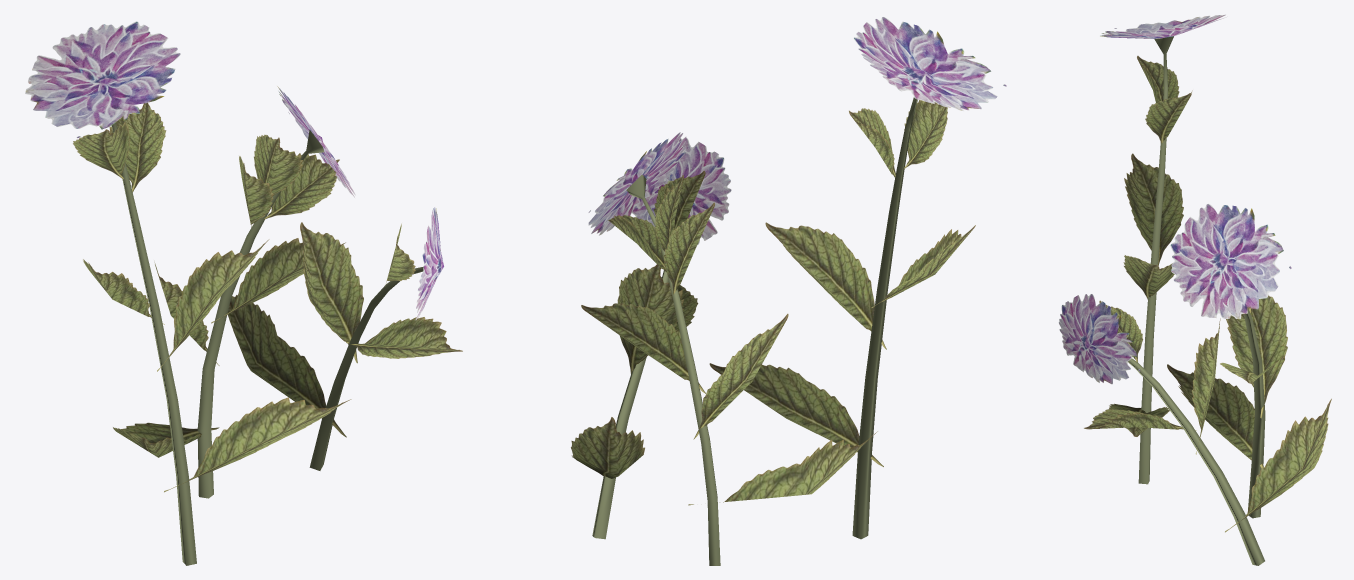
Rendered from sala2-pieza2.glb.
3 views of the same model, side by side, from view 1: azimuth 30°, elevation 25°; view 2: azimuth 150°, elevation 25°; view 3: azimuth 270°, elevation 25° (orthographic). The views are drawn at different scales.
Visible parts, largest first — view 1: Tree_1, Tree_0, Tree_2; view 2: Tree_1, Tree_0, Tree_2; view 3: Tree_1, Tree_0, Tree_2.
Part boxes in pixels (x1,y1,x2,y2): Tree_1: (73,102,462,492); Tree_0: (25,21,443,320); Tree_2: (111,122,440,565); Tree_1: (571,100,975,505); Tree_0: (588,17,1006,244); Tree_2: (592,97,917,565); Tree_1: (1084,55,1331,532); Tree_0: (1058,14,1291,384); Tree_2: (1128,36,1265,565).
Bounding box in the file's own units: 19.89 × 24.53 × 15.02.
3 materials, 2 textured.
